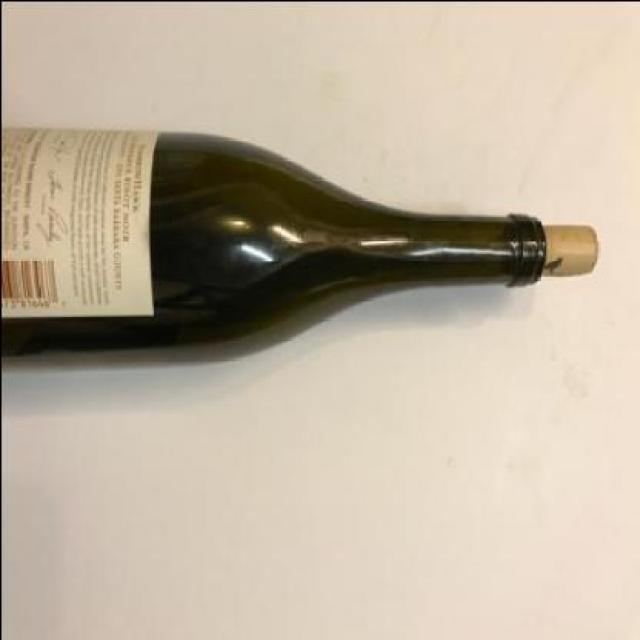glass: (1, 129, 548, 369)
